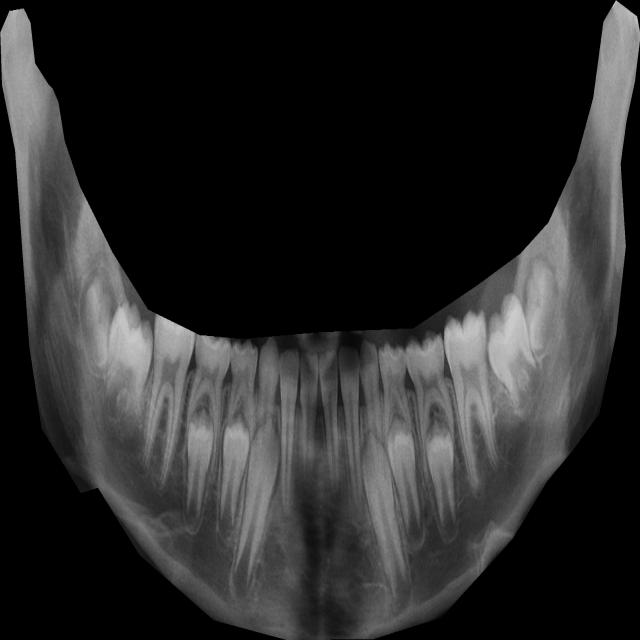mandibula: (0, 0, 640, 640)
